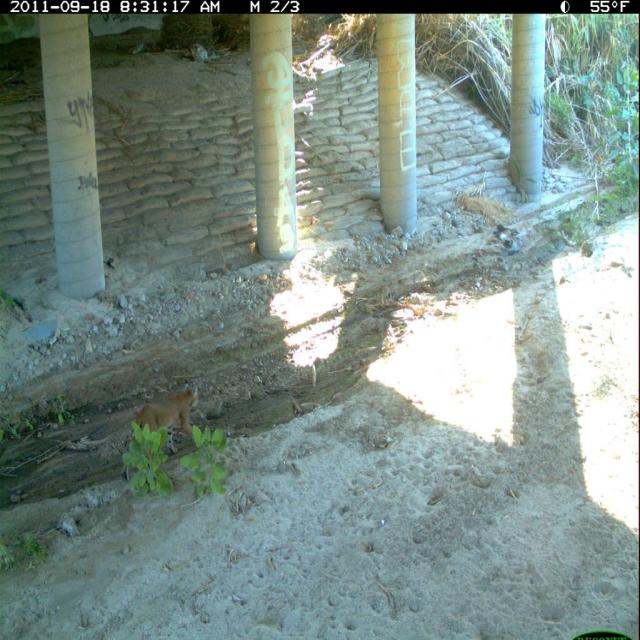bobcat: (119, 373, 204, 487)
